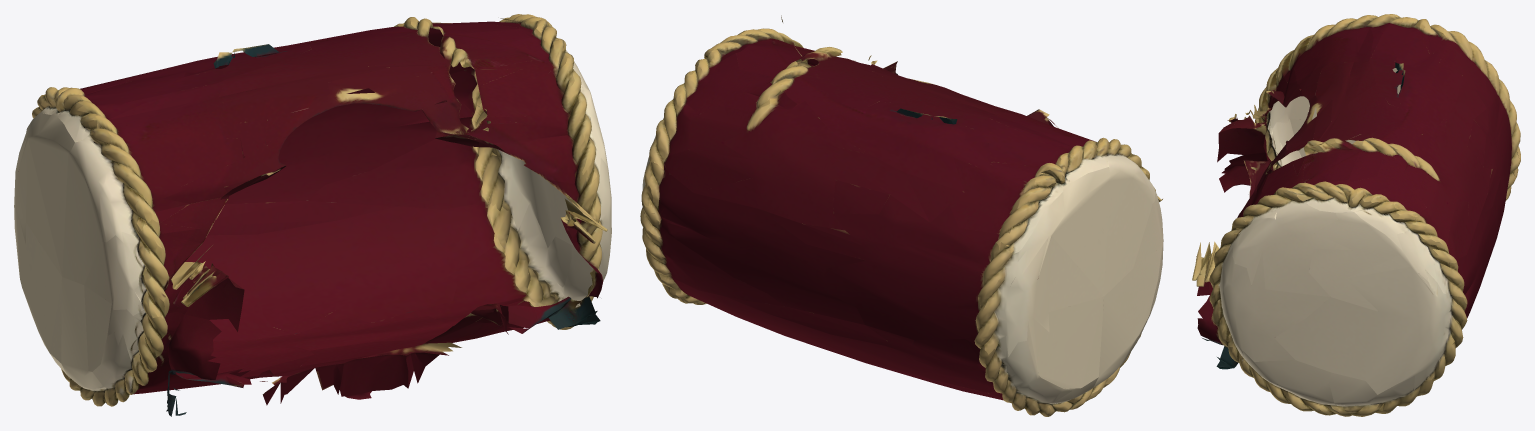
Rendered from back-drum.glb.
The picture shows the model from 3 angles, left to right: view 1: azimuth 30°, elevation 25°; view 2: azimuth 150°, elevation 25°; view 3: azimuth 270°, elevation 25°; orthographic projection. The views are drawn at different scales.
Bounding box in the file's own units: 1.36 × 0.8735 × 0.9586.
1 material, 1 textured.
